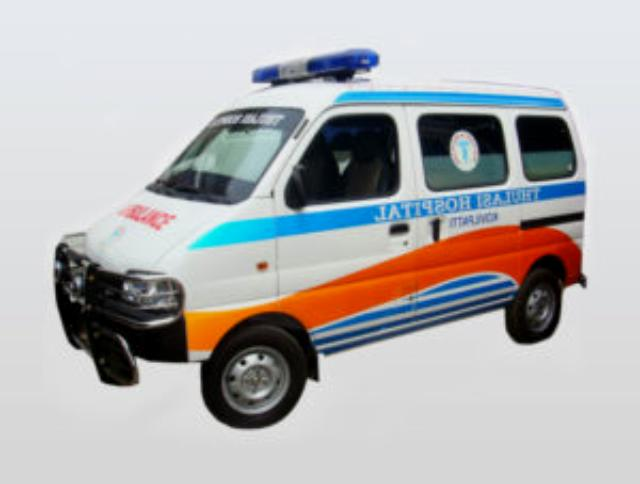ambulance: (53, 49, 587, 427), (49, 215, 70, 245), (582, 134, 593, 151), (75, 209, 87, 224)
